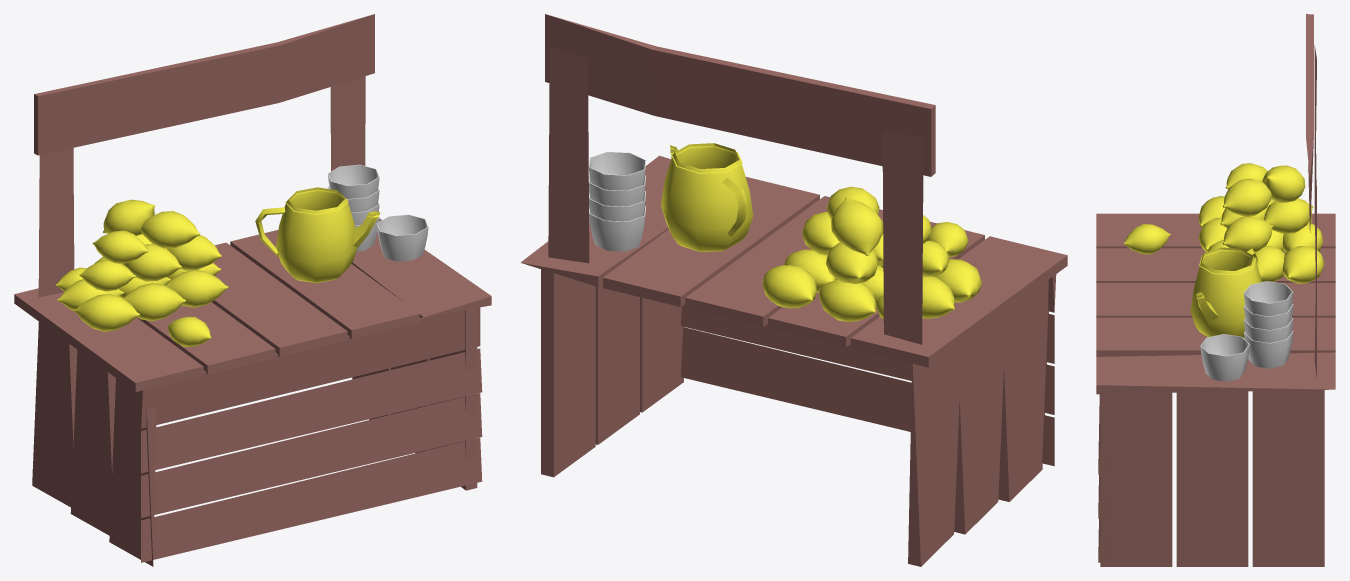
The model's file is lemonade-stand.fbx.
3 views of the same model, side by side, from view 1: azimuth 30°, elevation 25°; view 2: azimuth 150°, elevation 25°; view 3: azimuth 270°, elevation 25° (orthographic). The views are drawn at different scales.
Visible parts, largest first — view 1: 10. lemonade-stand; view 2: 10. lemonade-stand; view 3: 10. lemonade-stand.
Part boxes in pixels (<box>): 10. lemonade-stand: <box>14,14,491,566</box>; 10. lemonade-stand: <box>520,14,1067,566</box>; 10. lemonade-stand: <box>1096,14,1335,566</box>.
Bounding box in the file's own units: 2.16 × 2.3 × 1.27.
